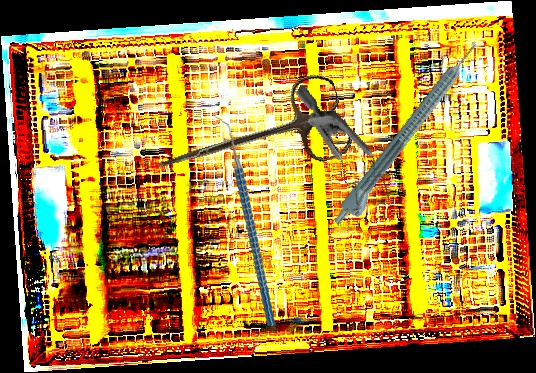Chopper: (187, 114, 302, 327)
Handpiece: (328, 37, 491, 235)
Iris Scissors: (146, 69, 356, 211)
Speculum: (259, 83, 418, 226)
